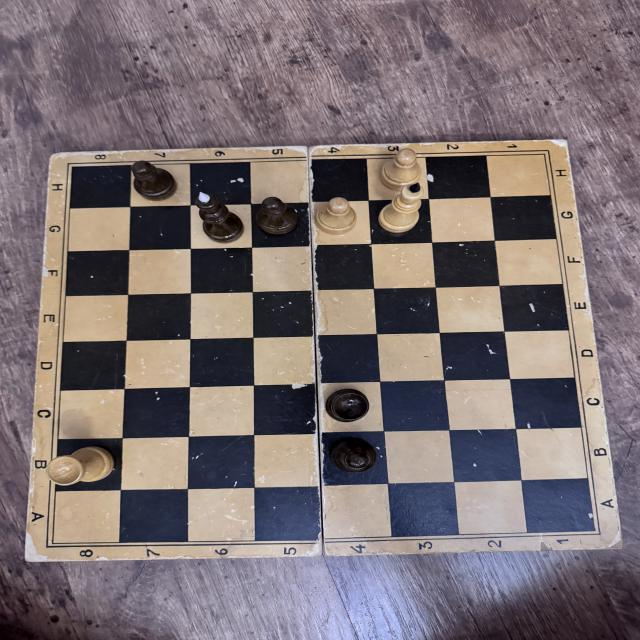black-king: (194, 189, 246, 243)
black-pawn: (128, 158, 180, 202), (253, 195, 303, 240), (330, 436, 380, 475)
black-rook: (324, 387, 371, 424)
white-king: (379, 182, 425, 236)
white-pawn: (379, 148, 423, 189), (312, 196, 359, 234)
white-rook: (46, 446, 115, 486)
